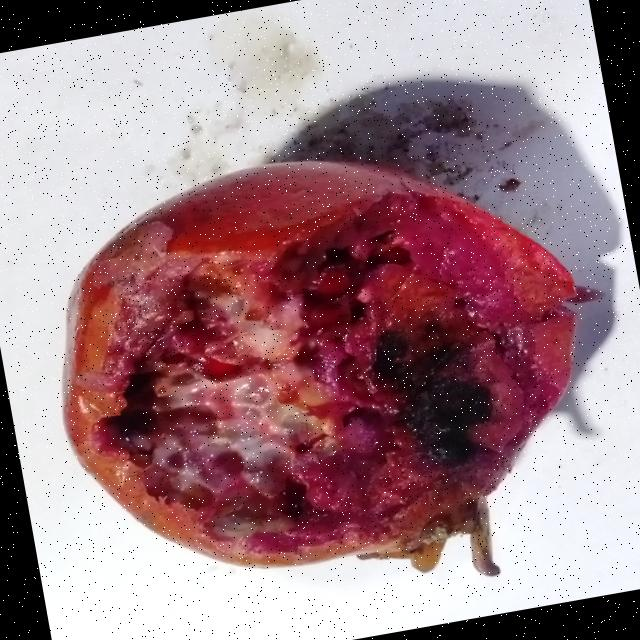Rotten: (15, 106, 632, 640)
